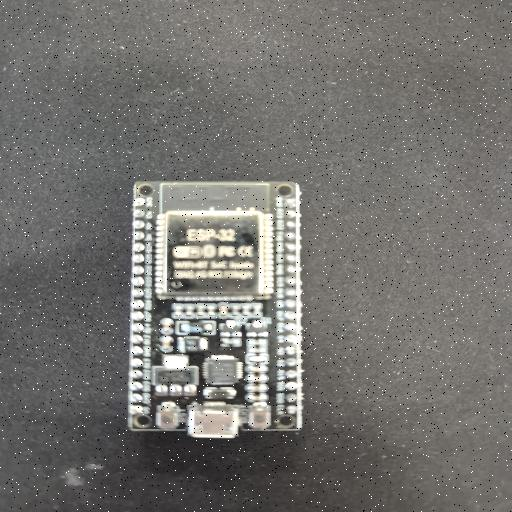esp32-dev: (129, 182, 303, 438)
